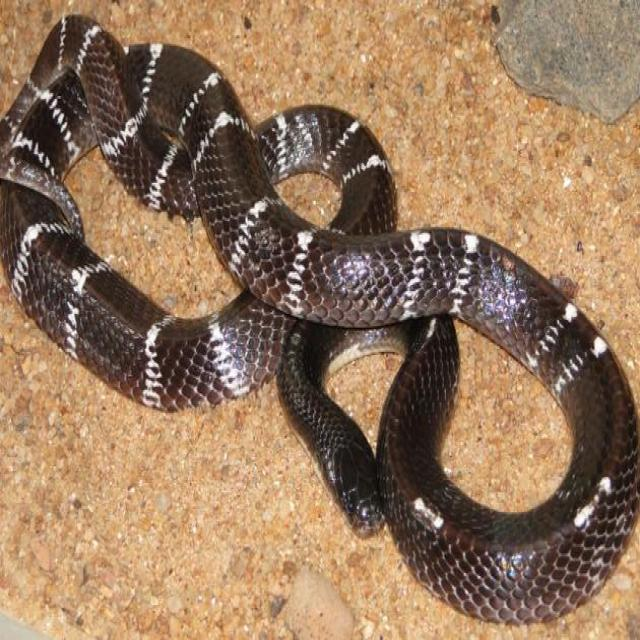Snake: (0, 11, 639, 624)
